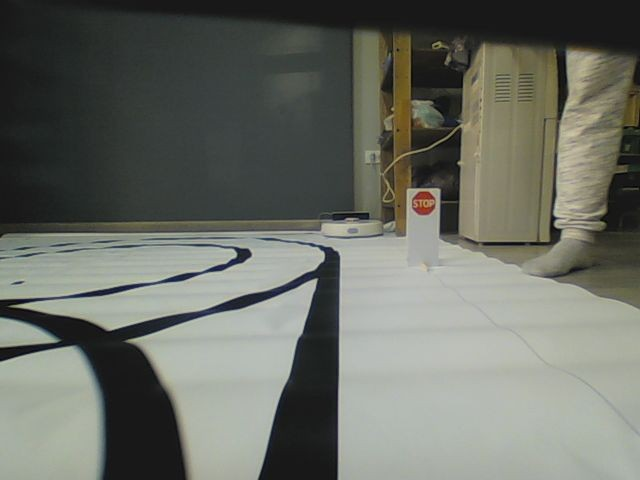Stop: (411, 190, 436, 217)
